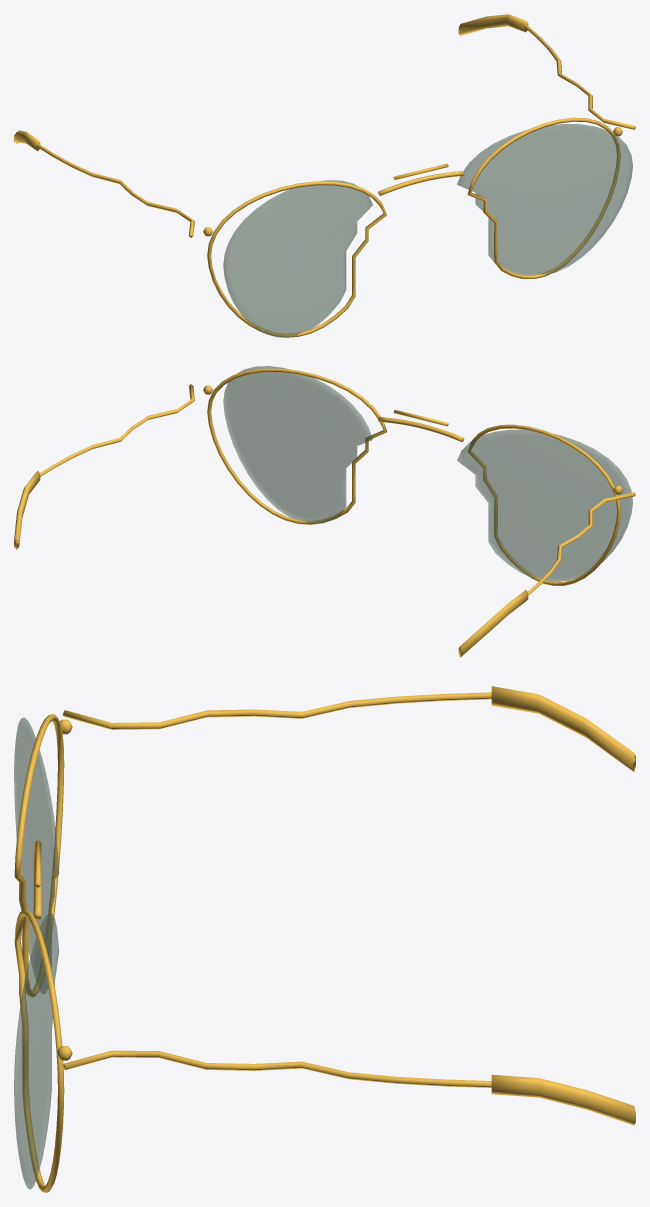
Rendered from aviator_sunglasses.glb.
3 views of the same model, one above another, from view 1: azimuth 30°, elevation 25°; view 2: azimuth 150°, elevation 25°; view 3: azimuth 270°, elevation 25° (orthographic). The views are drawn at different scales.
Visible parts, largest first — view 1: aviator_sunglasses; view 2: aviator_sunglasses; view 3: aviator_sunglasses.
Boxes of the visible parts, x1,y1,x2,y2 form: aviator_sunglasses: (14, 14, 635, 337); aviator_sunglasses: (14, 366, 635, 657); aviator_sunglasses: (14, 686, 635, 1192).
Bounding box in the file's own units: 0.2409 × 0.0716 × 0.1614.
